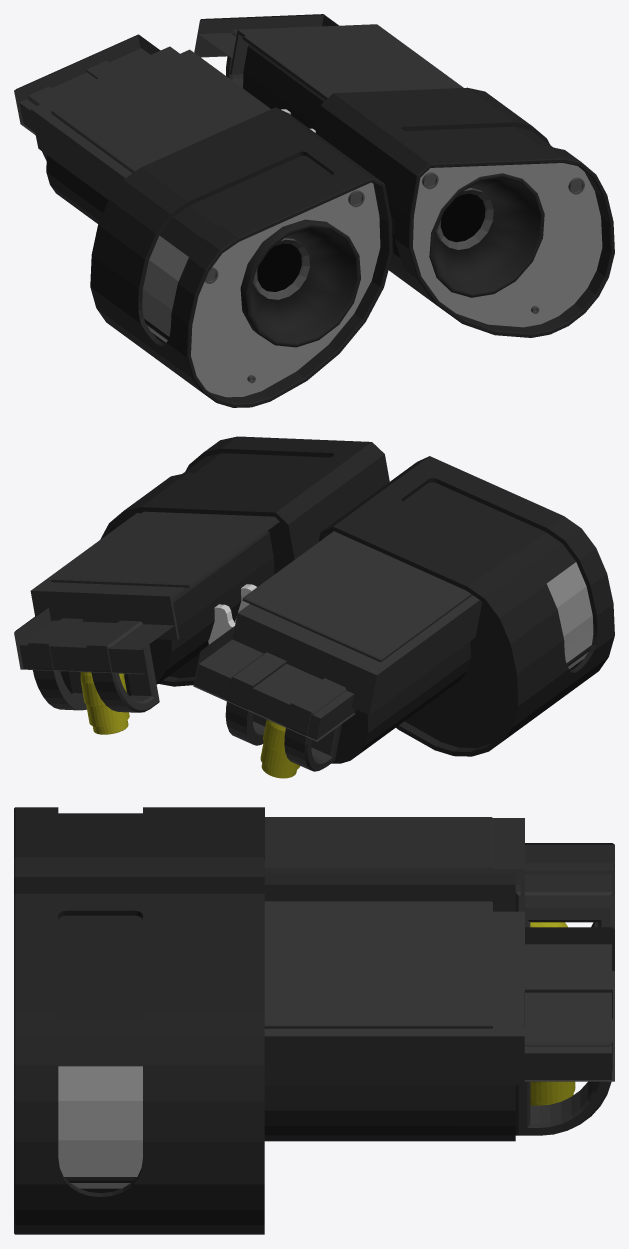
Rendered from walle_kepala.obj.
3 views of the same model, one above another, from view 1: azimuth 30°, elevation 25°; view 2: azimuth 150°, elevation 25°; view 3: azimuth 270°, elevation 25° (orthographic). The views are drawn at different scales.
Parts seen in each view (by area): view 1: back.002; view 2: back.002; view 3: back.002.
Boxes of the visible parts, <box> form: back.002: <box>14,14,614,407</box>; back.002: <box>14,436,614,778</box>; back.002: <box>14,807,614,1234</box>.
Size of the model in its own units: 2.48 by 1.11 by 2.33.
